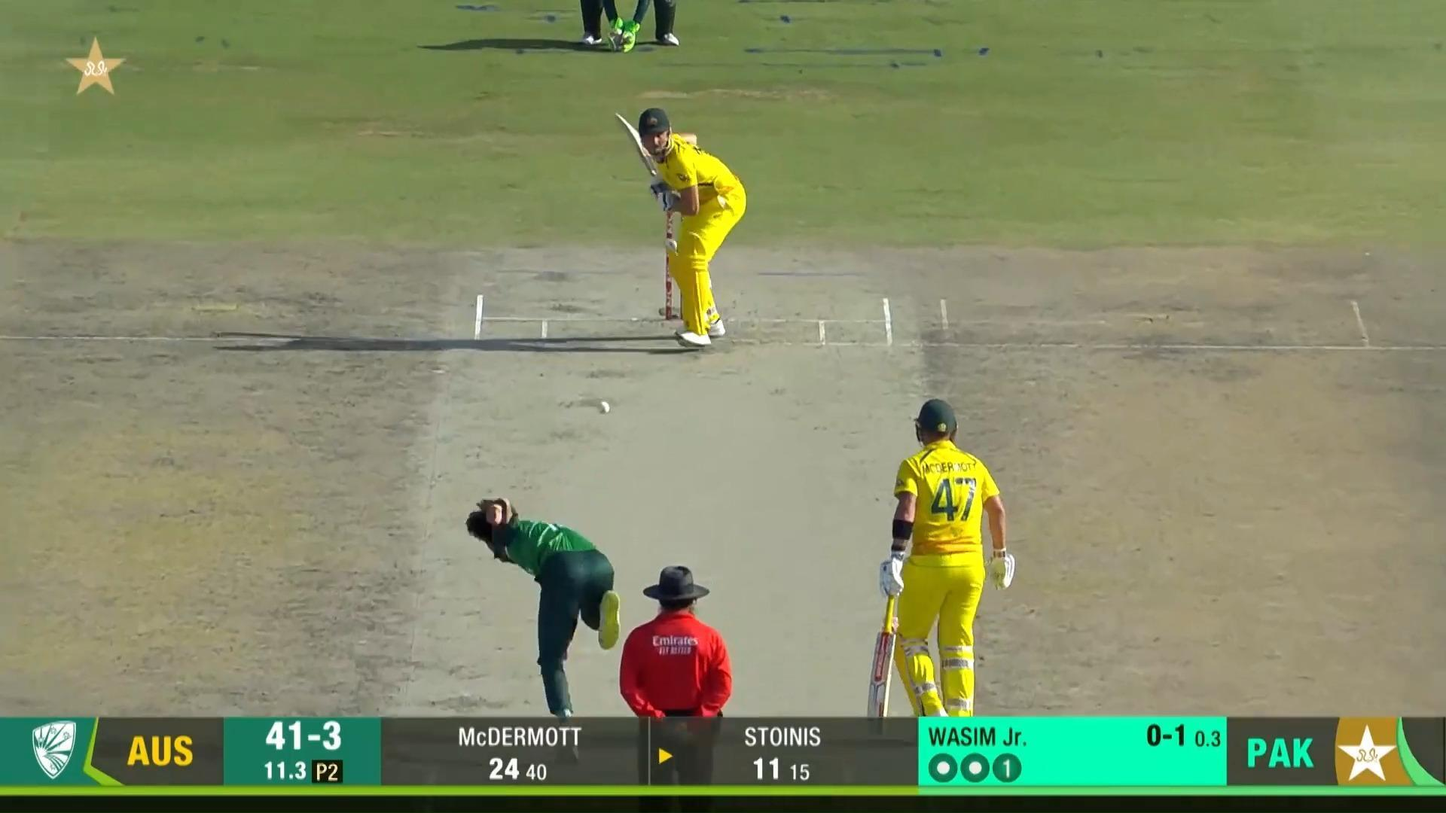BM 1: (612, 108, 749, 350)
BO: (468, 500, 623, 715)
